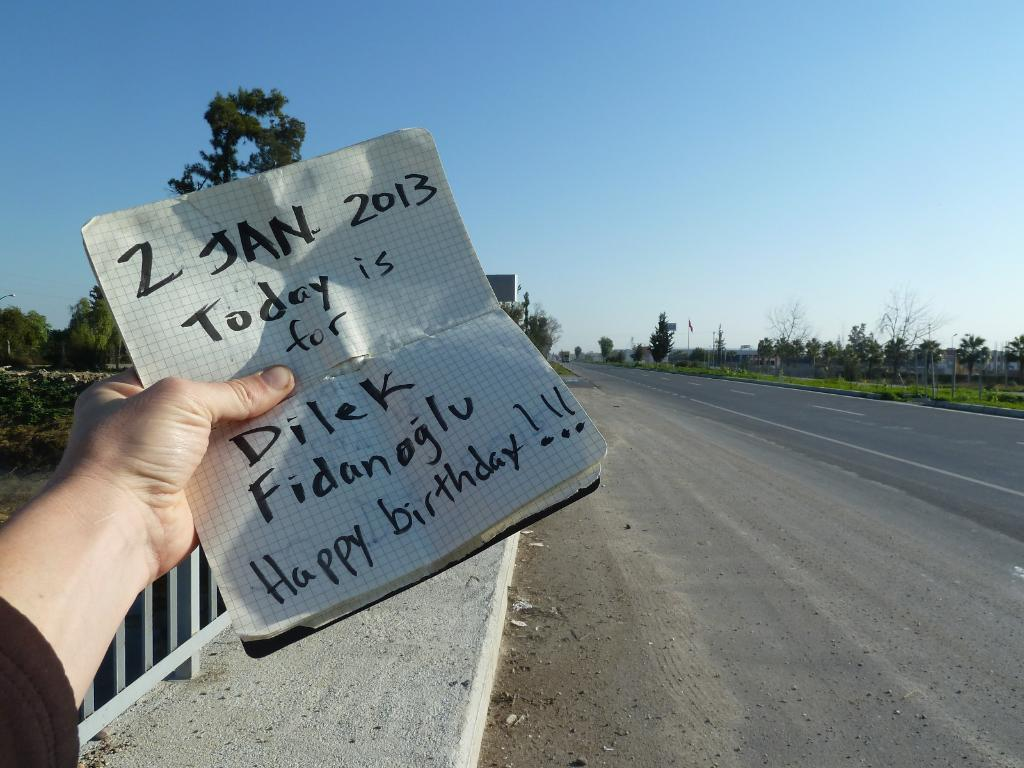Tree: (0, 79, 556, 373), (674, 300, 1023, 395), (650, 315, 673, 366), (590, 330, 618, 359)
